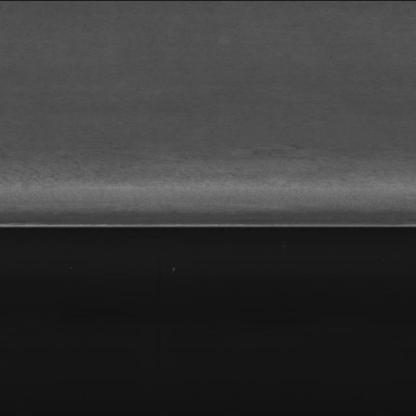silk_spot: (25, 141, 388, 213)
